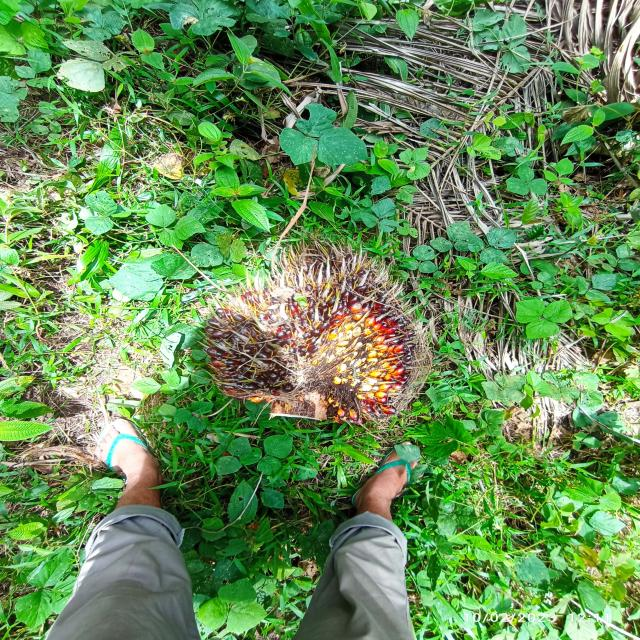fraksi 1: (202, 229, 423, 446)
